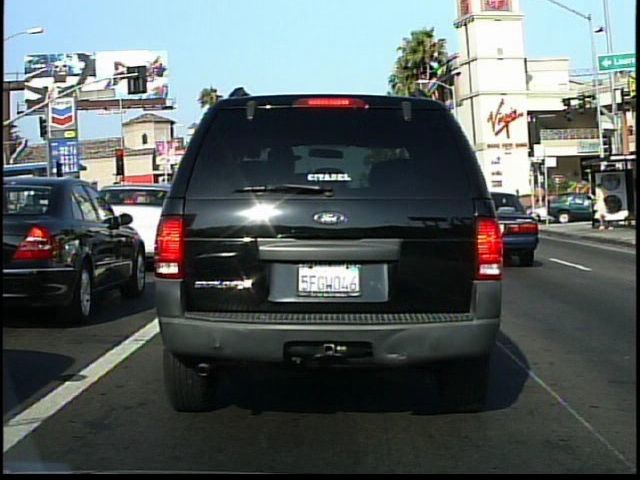person: (589, 177, 614, 233)
